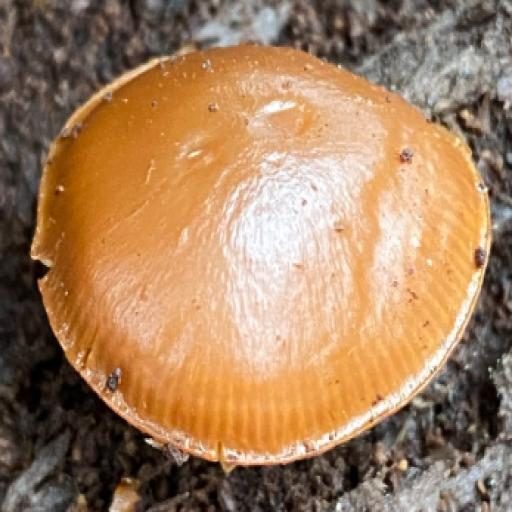mushroom: (26, 37, 497, 468)
